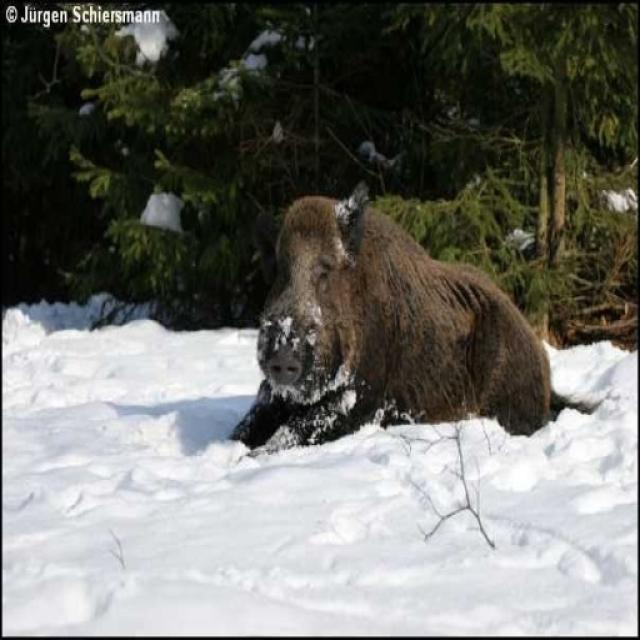pig: (215, 127, 550, 518)
